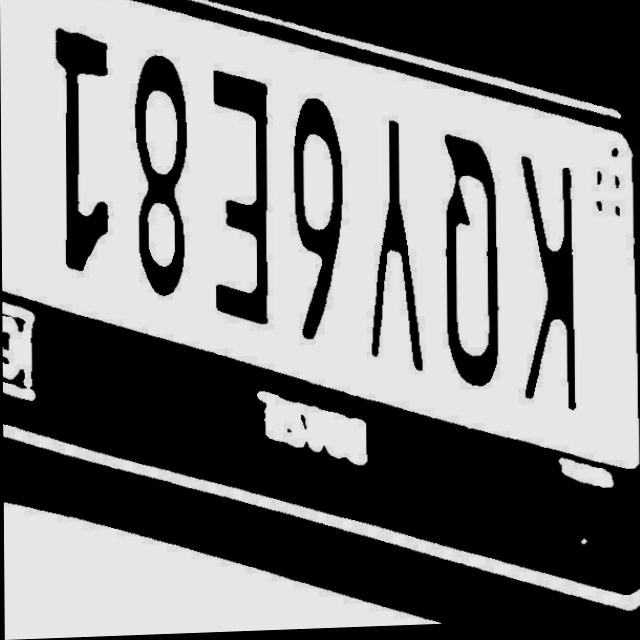1: (46, 11, 119, 283)
6: (283, 84, 345, 350)
8: (127, 42, 195, 303)
e: (207, 62, 280, 329)
k: (515, 125, 586, 427)
q: (421, 112, 512, 413)
y: (354, 91, 433, 398)
